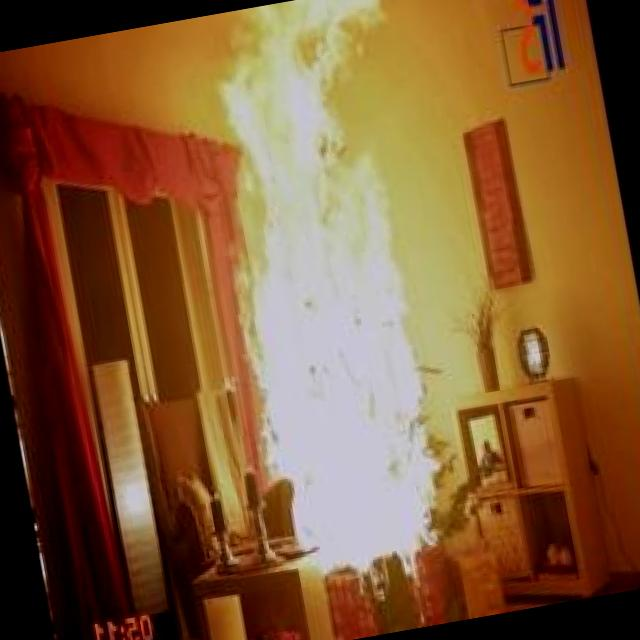fire: (170, 0, 517, 603)
